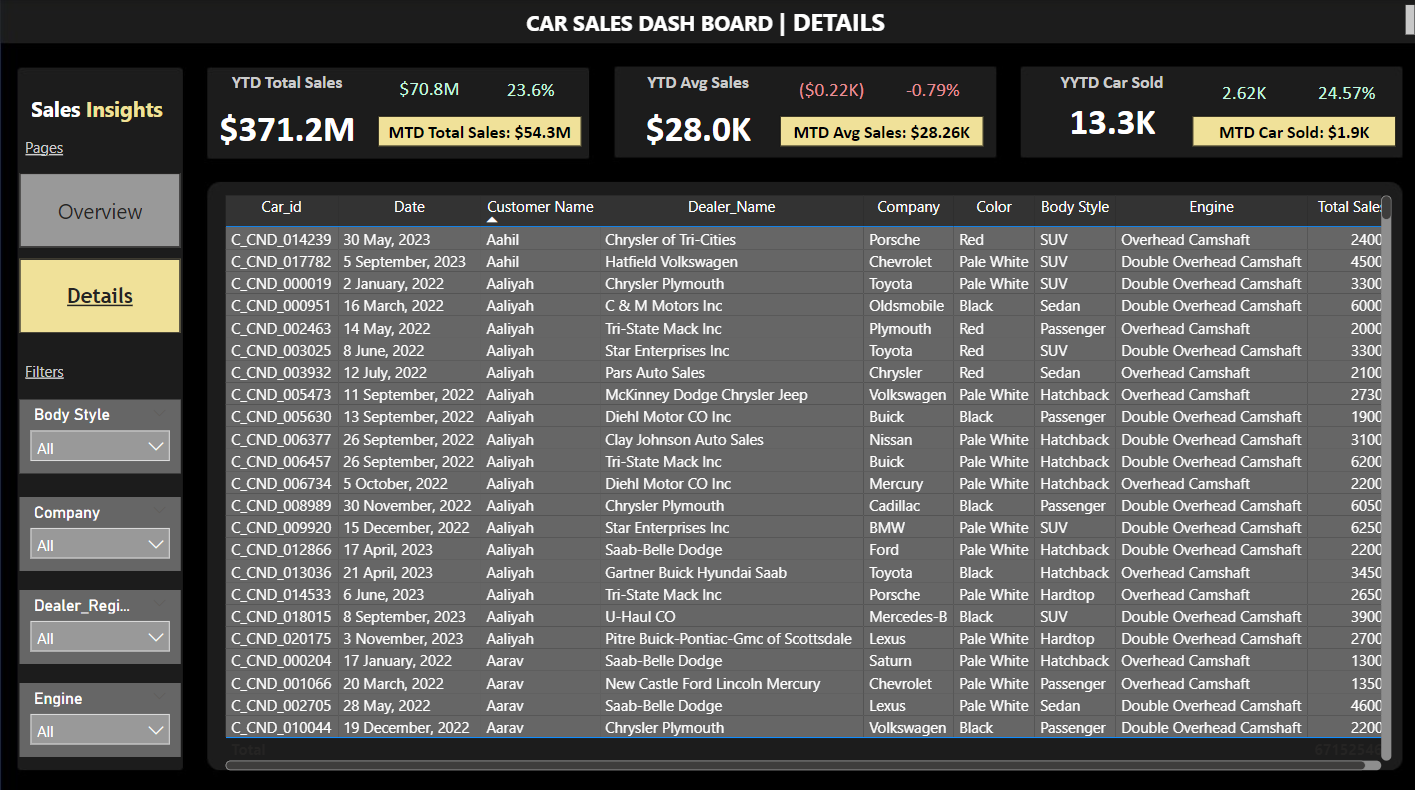

The page's visual inventory and layout, read from the dashboard file:
{"tool":"powerbi","page":{"name":"Details","canvas":[1280,720],"ordinal":1},"visuals":[{"type":"card","title":"YTD Total Sales","fields":{"Values":["car_data.YTD Total Sales"]},"box":[184.7,65.1,146.9,80.3],"z":0},{"type":"card","fields":{"Values":["car_data.Sales Difference"]},"box":[340.7,63.6,92.4,36.3],"z":1000},{"type":"card","fields":{"Values":["car_data.YoY Sales Growth"]},"box":[433.1,65.1,90.9,34.8],"z":2000},{"type":"card","fields":{"Values":["car_data.MTD KPI"]},"box":[340.7,106,183.2,27.3],"z":3000},{"type":"card","title":"YTD Avg Sales","fields":{"Values":["car_data.YTD Avg Price"]},"box":[555.7,65.1,146.9,80.3],"z":4000},{"type":"card","fields":{"Values":["car_data.Avg sale Difference"]},"box":[702.6,65.1,92.4,34.8],"z":5000},{"type":"card","fields":{"Values":["car_data.AVG MTD KPI"]},"box":[702.6,106,183.2,27.3],"z":6000},{"type":"card","fields":{"Values":["car_data.Avg YOY Price Growth"]},"box":[795,65.1,90.9,34.8],"z":7000},{"type":"card","title":"YYTD Car Sold","fields":{"Values":["car_data.YTD Car Sold"]},"box":[928.2,65.1,146.9,68.1],"z":8000},{"type":"card","fields":{"Values":["car_data.car sold diff"]},"box":[1075.1,65.1,92.4,40.9],"z":9000},{"type":"card","fields":{"Values":["car_data.cs growth"]},"box":[1167.5,65.1,90.9,40.9],"z":10000},{"type":"card","fields":{"Values":["car_data.MTD Car sold KPI"]},"box":[1075.1,106,183.2,27.3],"z":11000},{"type":"textbox","box":[0,0,1279.5,37.9],"z":12000},{"type":"slicer","fields":{"Values":["car_data.Body Style"]},"box":[18.2,360.4,145.4,66.6],"z":13000},{"type":"slicer","fields":{"Values":["car_data.Company"]},"box":[18.2,448.2,145.4,66.6],"z":14000},{"type":"slicer","fields":{"Values":["car_data.Dealer_Region"]},"box":[18.2,533,145.4,66.6],"z":15000},{"type":"slicer","fields":{"Values":["car_data.Engine"]},"box":[18.2,616.3,145.4,66.6],"z":16000},{"type":"tableEx","fields":{"Values":["car_data.Car_id","car_data.Date","car_data.Customer Name","car_data.Dealer_Name","car_data.Company","car_data.Color","car_data.Body Style","car_data.Engine","Sum(car_data.Price ($))"]},"box":[196.8,171.1,1061.5,528.5],"z":17000},{"type":"textbox","box":[22.7,81.8,140.8,37.9],"z":18000},{"type":"pageNavigator","box":[17.6,156.8,146,144.6],"z":19000},{"type":"textbox","box":[18.2,321,136.3,31.8],"z":19001},{"type":"textbox","box":[17.6,119,136.5,31.1],"z":19002}]}

Visuals, with their boxes on the page's 1280x720 design canvas (x1, y1, x2, y2). These are canvas units, not pixel positions in the 1415x790 screenshot, which may show the page scaled, cropped or inside an application window:
"YTD Total Sales" card: Rect(185, 65, 332, 145)
card - car_data.Sales Difference: Rect(341, 64, 433, 100)
card - car_data.YoY Sales Growth: Rect(433, 65, 524, 100)
card - car_data.MTD KPI: Rect(341, 106, 524, 133)
"YTD Avg Sales" card: Rect(556, 65, 703, 145)
card - car_data.Avg sale Difference: Rect(703, 65, 795, 100)
card - car_data.AVG MTD KPI: Rect(703, 106, 886, 133)
card - car_data.Avg YOY Price Growth: Rect(795, 65, 886, 100)
"YYTD Car Sold" card: Rect(928, 65, 1075, 133)
card - car_data.car sold diff: Rect(1075, 65, 1168, 106)
card - car_data.cs growth: Rect(1168, 65, 1258, 106)
card - car_data.MTD Car sold KPI: Rect(1075, 106, 1258, 133)
textbox: Rect(0, 0, 1280, 38)
slicer - car_data.Body Style: Rect(18, 360, 164, 427)
slicer - car_data.Company: Rect(18, 448, 164, 515)
slicer - car_data.Dealer_Region: Rect(18, 533, 164, 600)
slicer - car_data.Engine: Rect(18, 616, 164, 683)
tableEx - car_data.Car_id x car_data.Date: Rect(197, 171, 1258, 700)
textbox: Rect(23, 82, 164, 120)
pageNavigator: Rect(18, 157, 164, 301)
textbox: Rect(18, 321, 154, 353)
textbox: Rect(18, 119, 154, 150)
